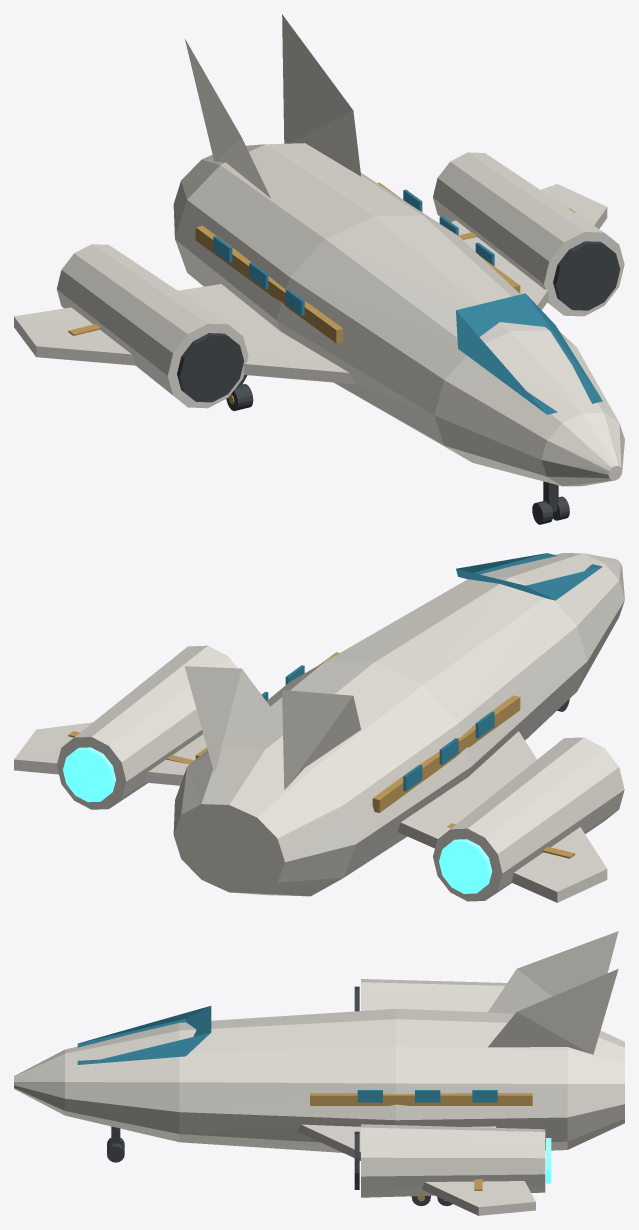
File: Royal.glb
3 renders of one model, top to bottom at view 1: azimuth 30°, elevation 25°; view 2: azimuth 150°, elevation 25°; view 3: azimuth 270°, elevation 25°, orthographic. The views are drawn at different scales.
Visible parts, largest first — view 1: GW Ivory, GW Metal, GW Glass Dark, GW Gold; view 2: GW Ivory, GW Light, GW Glass Dark, GW Gold; view 3: GW Ivory, GW Glass Dark, GW Gold, GW Metal.
Boxes of the visible parts, x1=… form: GW Ivory: x1=14, y1=14, x2=624, y2=486; GW Metal: x1=177, y1=241, x2=620, y2=524; GW Glass Dark: x1=213, y1=189, x2=602, y2=414; GW Gold: x1=68, y1=182, x2=575, y2=404; GW Ivory: x1=14, y1=553, x2=624, y2=902; GW Light: x1=63, y1=747, x2=492, y2=893; GW Glass Dark: x1=261, y1=553, x2=602, y2=791; GW Gold: x1=68, y1=652, x2=575, y2=858; GW Ivory: x1=14, y1=931, x2=624, y2=1215; GW Glass Dark: x1=77, y1=1006, x2=497, y2=1102; GW Gold: x1=310, y1=1093, x2=532, y2=1201; GW Metal: x1=107, y1=986, x2=452, y2=1206.
Size of the model in its own units: 42.64 by 18.72 by 49.92.
